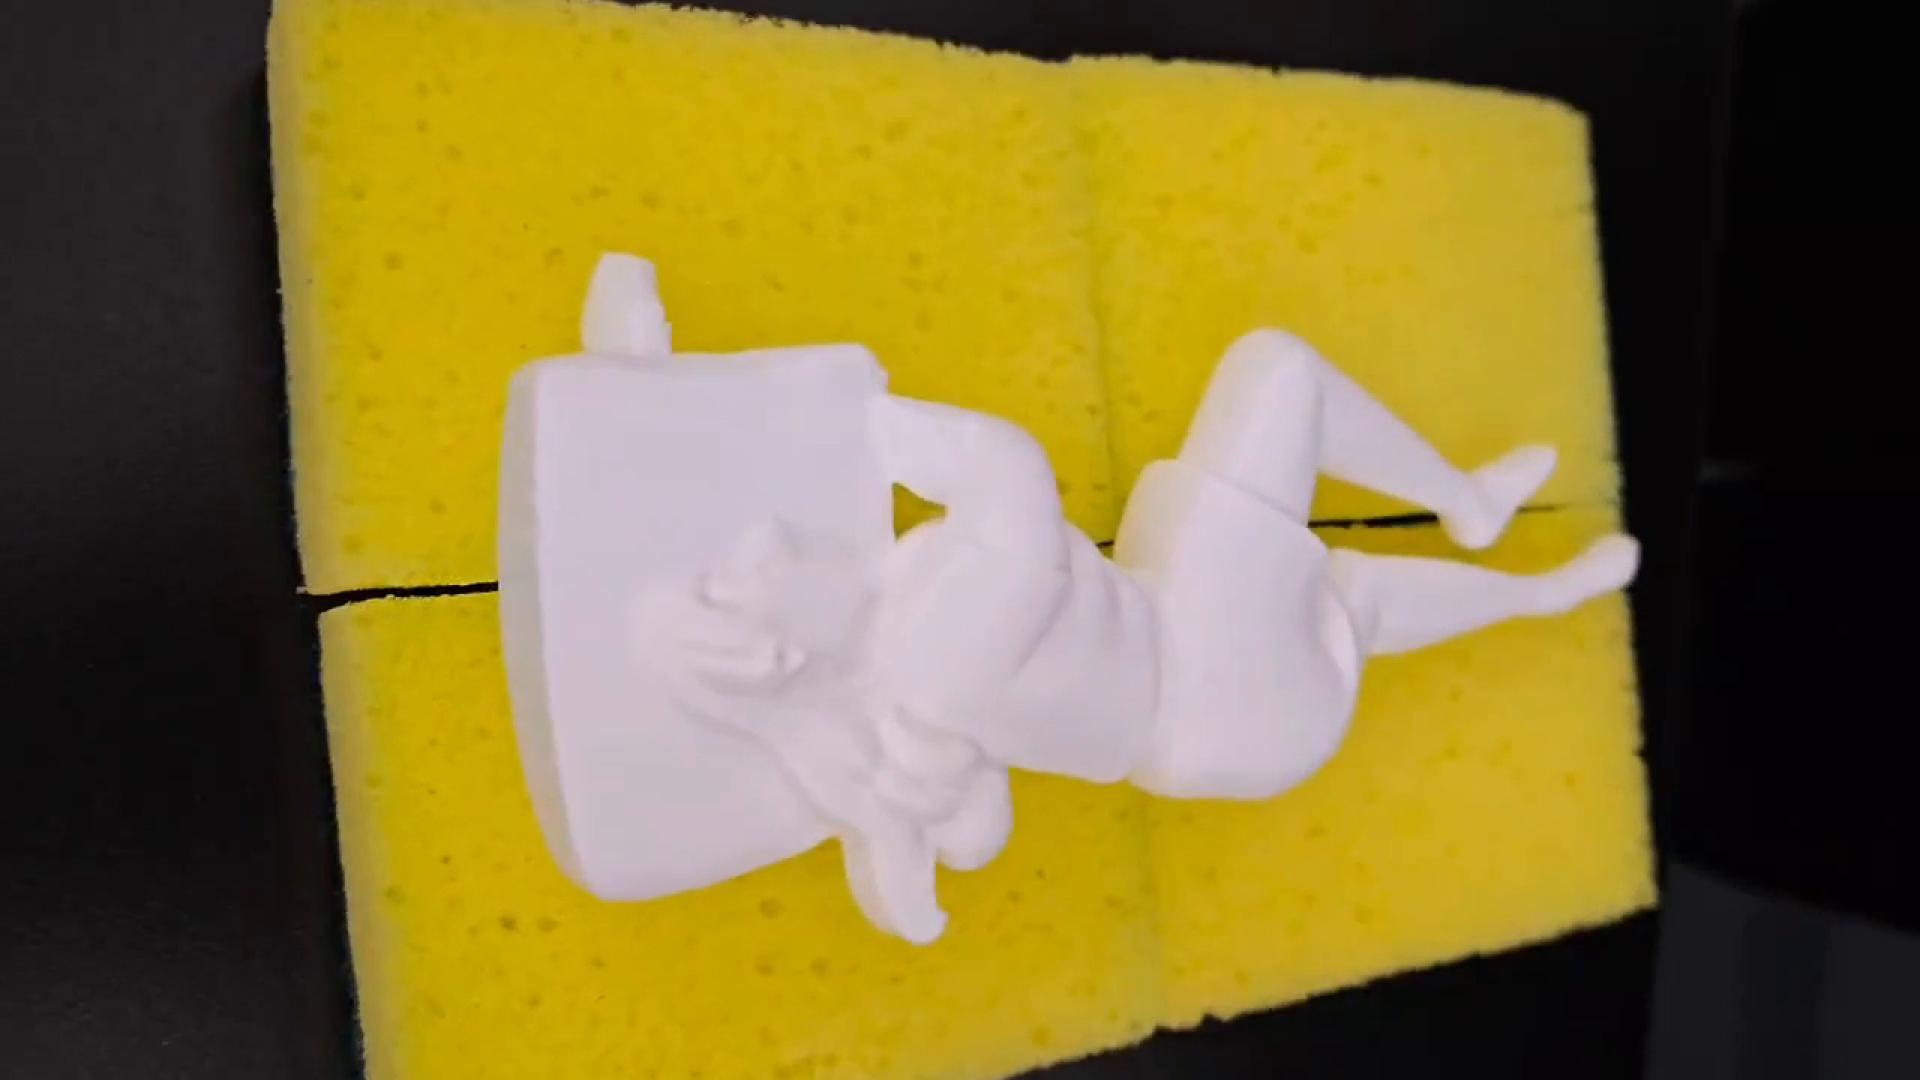Good-style: (496, 247, 1643, 947)
